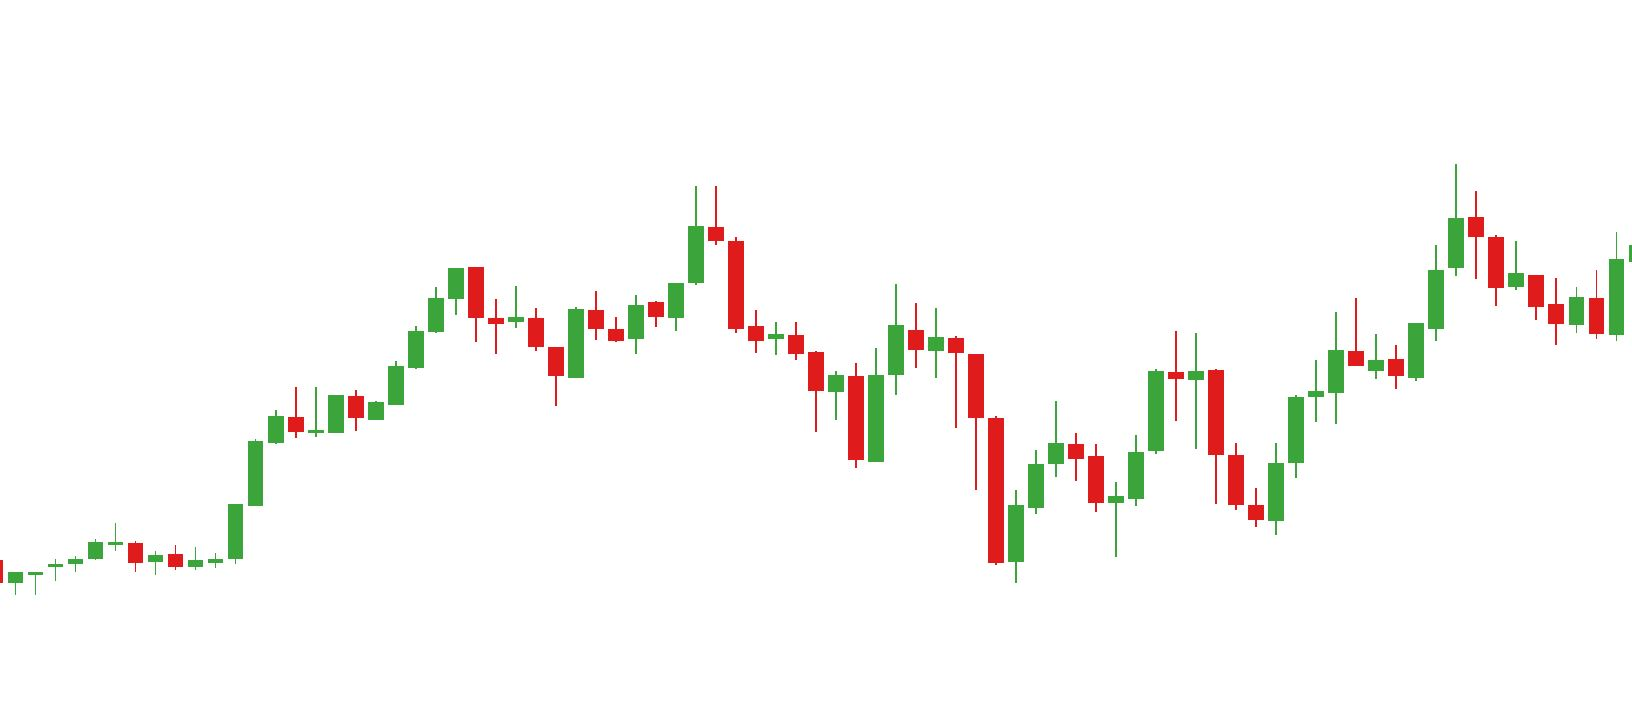sell: (447, 188, 744, 301)
